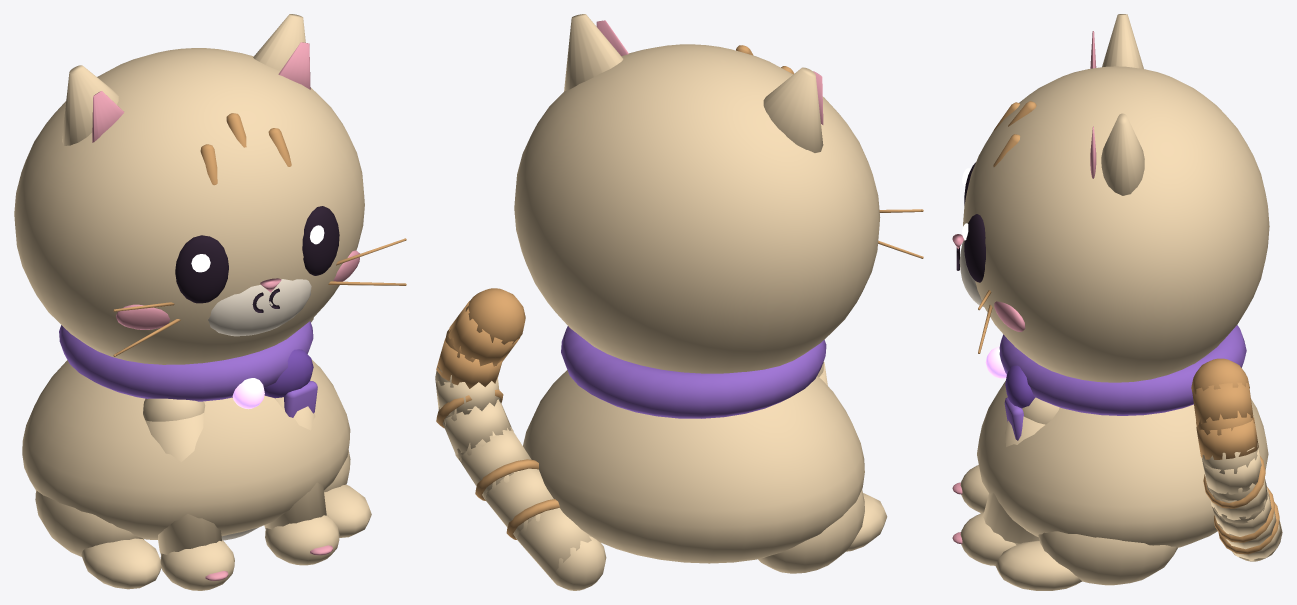
The model's file is cat.glb.
3 views of the same model, side by side, from view 1: azimuth 30°, elevation 25°; view 2: azimuth 150°, elevation 25°; view 3: azimuth 270°, elevation 25° (orthographic). The views are drawn at different scales.
Visible parts, largest first — view 1: cat; view 2: cat; view 3: cat.
Part boxes in pixels (bbox=[...]): cat: bbox=[14, 14, 406, 590]; cat: bbox=[435, 14, 923, 590]; cat: bbox=[952, 14, 1282, 590].
Size of the model in its own units: 0.5939 by 0.799 by 0.506.
